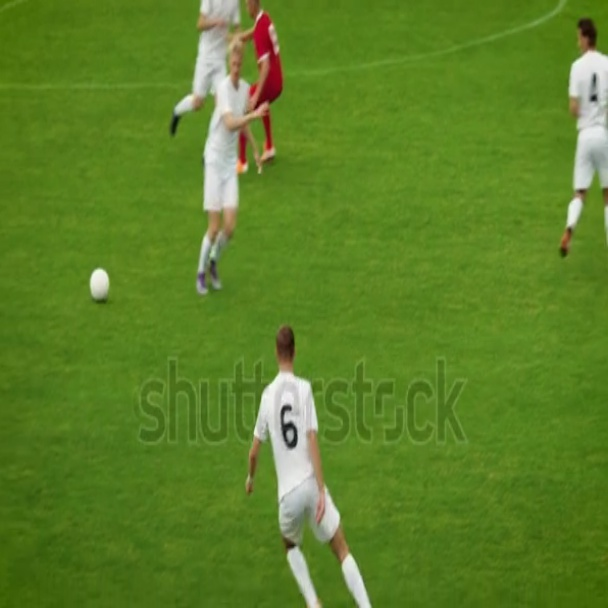ball: (91, 268, 108, 297)
